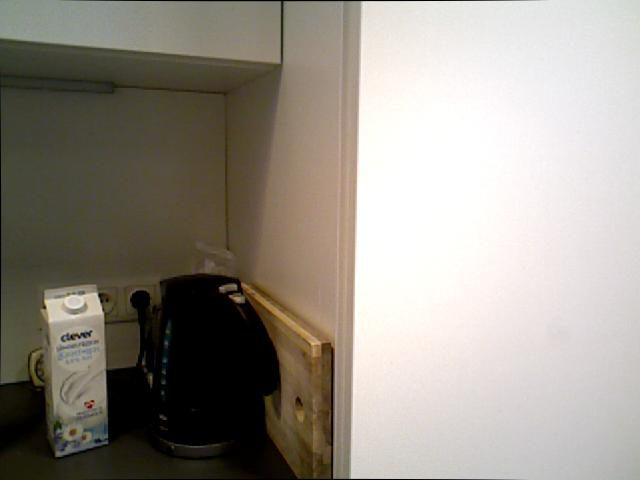bench: (38, 283, 112, 456)
giraffe: (26, 348, 49, 388)
hot dog: (357, 0, 640, 480)
